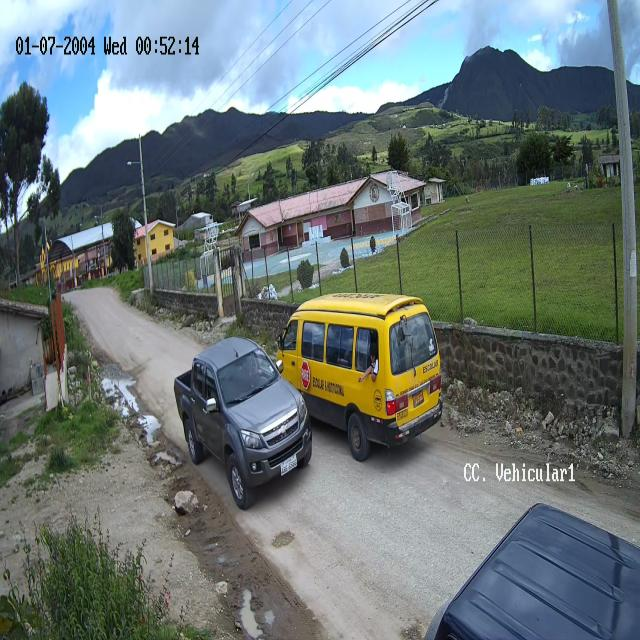BUS: (280, 293, 443, 462)
CMT: (176, 338, 310, 510)
